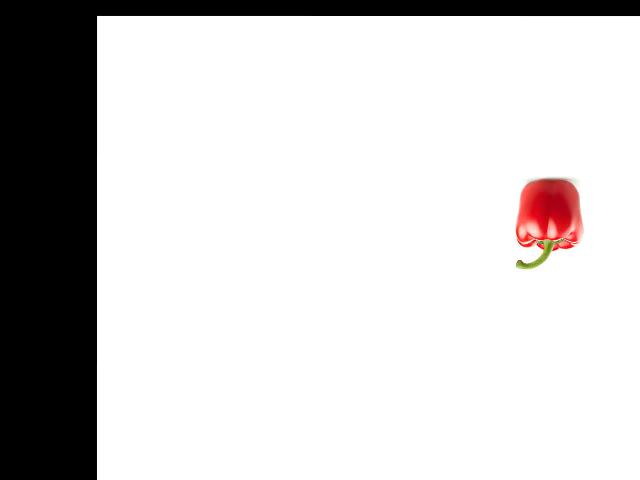bell_pepper: (513, 178, 581, 270)
